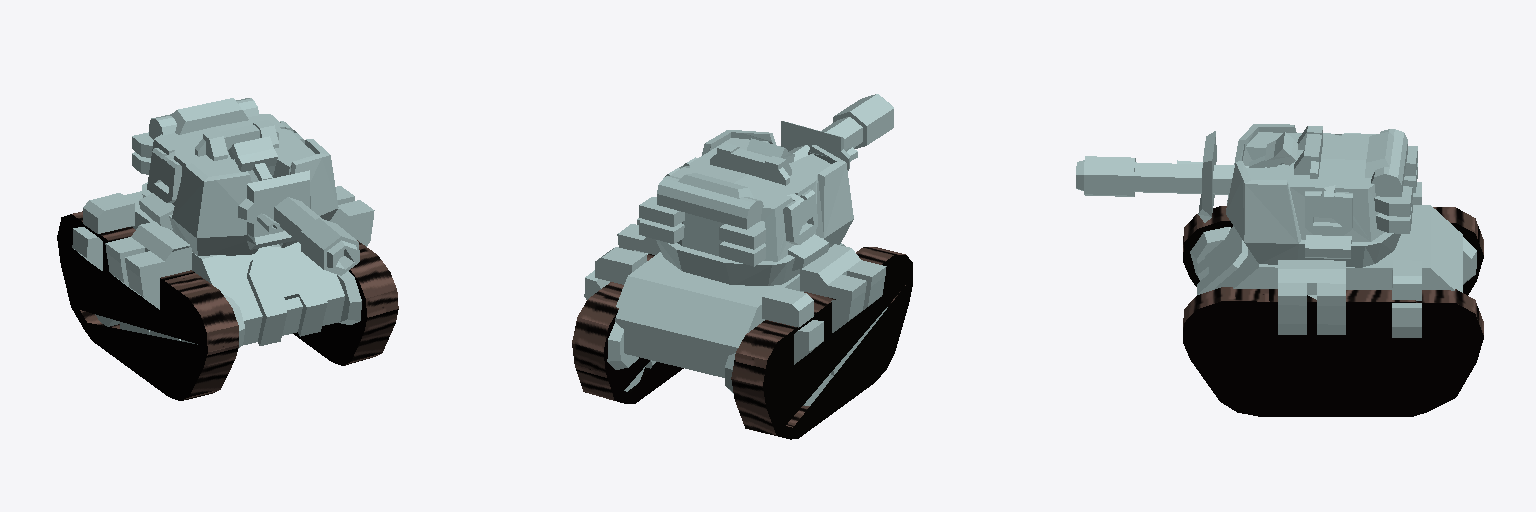
3 views of the same model, side by side, from view 1: azimuth 30°, elevation 25°; view 2: azimuth 150°, elevation 25°; view 3: azimuth 270°, elevation 25° (orthographic).
Visible parts, largest first — view 1: tank_Cube.000_Cube.001_tank_Cube.000_Cube.004, tank_Cube.000_Cube.230, RightTrack_tank_Cube.000_Cube.003, LeftTrack_tank_Cube.000_Cube.002; view 2: tank_Cube.000_Cube.001_tank_Cube.000_Cube.004, tank_Cube.000_Cube.230, RightTrack_tank_Cube.000_Cube.003, LeftTrack_tank_Cube.000_Cube.002; view 3: LeftTrack_tank_Cube.000_Cube.002, tank_Cube.000_Cube.001_tank_Cube.000_Cube.004, tank_Cube.000_Cube.230, RightTrack_tank_Cube.000_Cube.003.
Boxes of the visible parts, x1,y1,x2,y2 form: tank_Cube.000_Cube.001_tank_Cube.000_Cube.004: [132, 98, 359, 275]; tank_Cube.000_Cube.230: [72, 186, 374, 348]; RightTrack_tank_Cube.000_Cube.003: [57, 211, 238, 400]; LeftTrack_tank_Cube.000_Cube.002: [293, 240, 398, 365]; tank_Cube.000_Cube.001_tank_Cube.000_Cube.004: [639, 94, 893, 285]; tank_Cube.000_Cube.230: [584, 218, 887, 405]; RightTrack_tank_Cube.000_Cube.003: [731, 247, 912, 439]; LeftTrack_tank_Cube.000_Cube.002: [572, 254, 683, 403]; LeftTrack_tank_Cube.000_Cube.002: [1183, 287, 1483, 416]; tank_Cube.000_Cube.001_tank_Cube.000_Cube.004: [1076, 124, 1417, 267]; tank_Cube.000_Cube.230: [1190, 182, 1476, 337]; RightTrack_tank_Cube.000_Cube.003: [1183, 206, 1483, 295].
Bounding box in the file's own units: 3.21 × 2.99 × 4.82.
Materials: 2 (1 with a texture image).